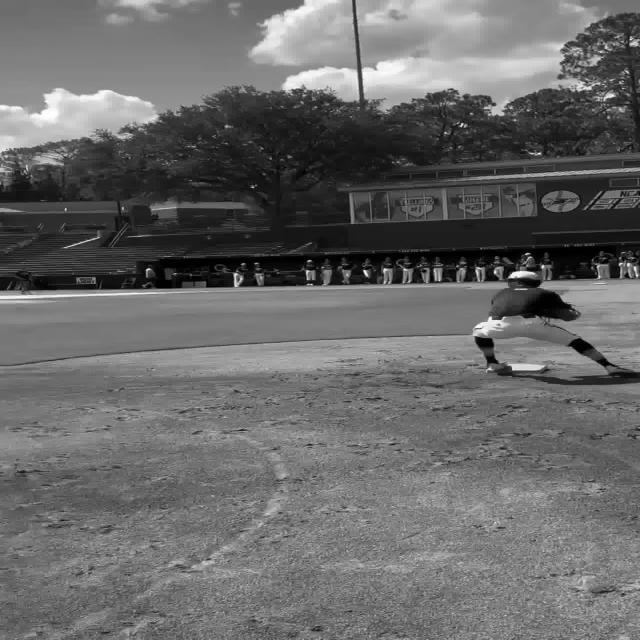base: (509, 364, 547, 372)
shoe: (605, 365, 638, 378), (487, 362, 513, 375)
